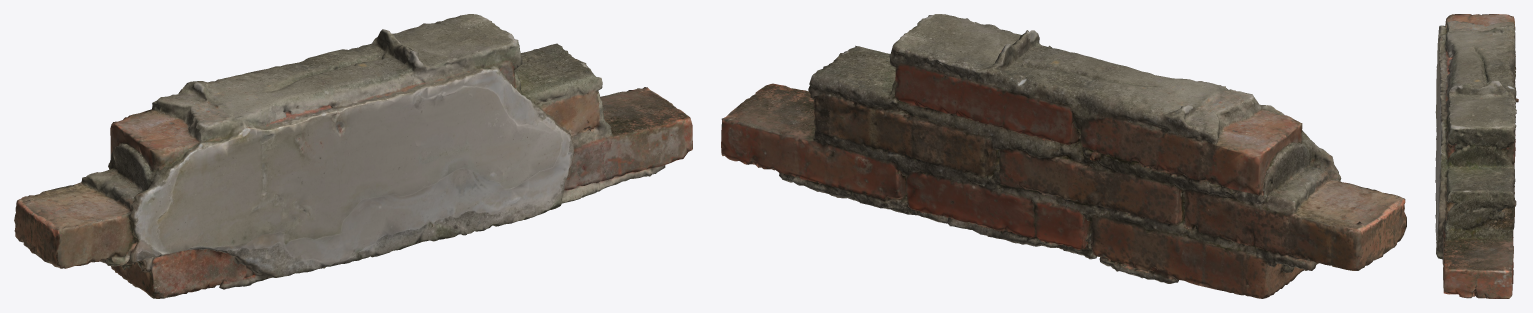
File: PX_Brick_Ruins_10_LOD1.fbx
3 renders of one model, left to right at view 1: azimuth 30°, elevation 25°; view 2: azimuth 150°, elevation 25°; view 3: azimuth 270°, elevation 25°, orthographic. The views are drawn at different scales.
Parts seen in each view (by area): view 1: PX_Brick_Ruins_10_LOD1; view 2: PX_Brick_Ruins_10_LOD1; view 3: PX_Brick_Ruins_10_LOD1.
Boxes of the visible parts, x1,y1,x2,y2 form: PX_Brick_Ruins_10_LOD1: [14, 14, 692, 298]; PX_Brick_Ruins_10_LOD1: [721, 14, 1406, 298]; PX_Brick_Ruins_10_LOD1: [1435, 14, 1518, 298].
Size of the model in its own units: 89.92 by 25.73 by 14.1.
